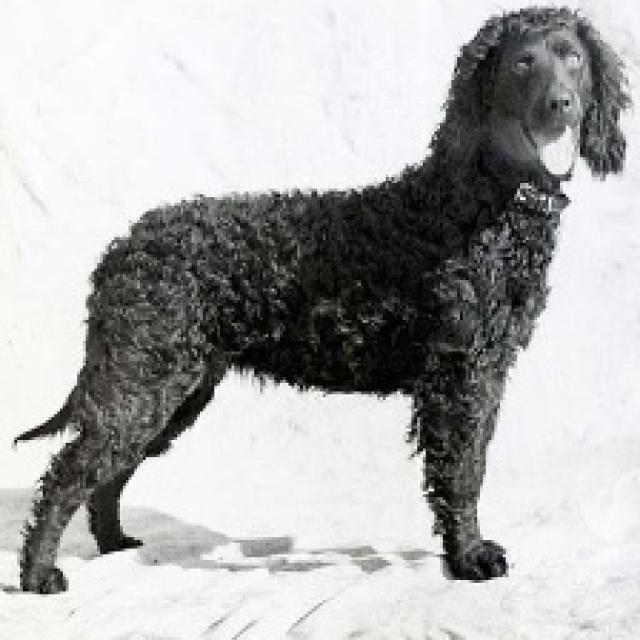cho khoe manh: (76, 43, 640, 545)
